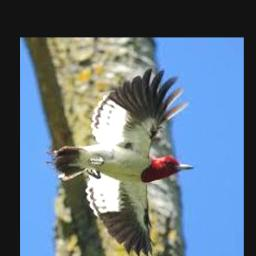Woodpecker: (47, 69, 194, 256)
